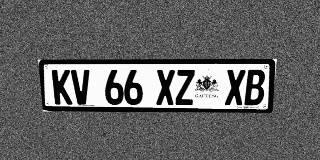6: (104, 70, 124, 105), (123, 70, 143, 105)
B: (244, 70, 266, 105)
K: (52, 70, 72, 105)
V: (71, 70, 91, 105)
X: (225, 70, 246, 105), (156, 70, 175, 105)
Z: (175, 70, 195, 105)
